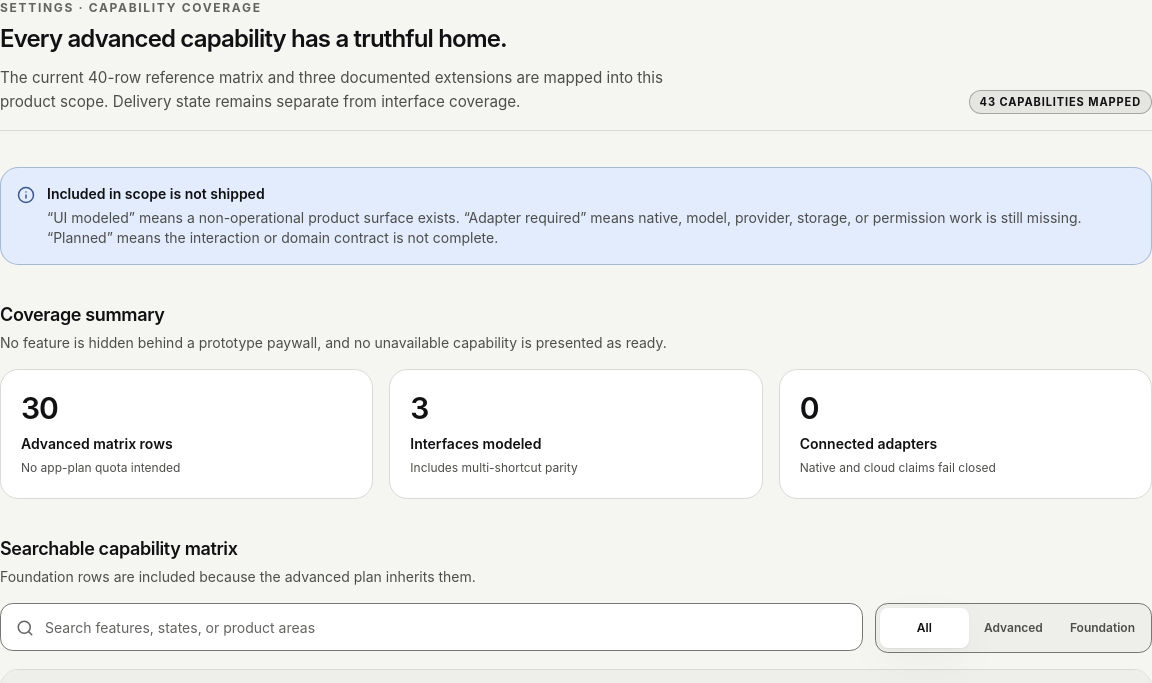
Test: capability coverage › searches titles, details, and product areas with an honest empty state
In the search field named "Search capabilities": (431, 627) top-left (0, 603), bottom-right (863, 651), type "Obsidian"
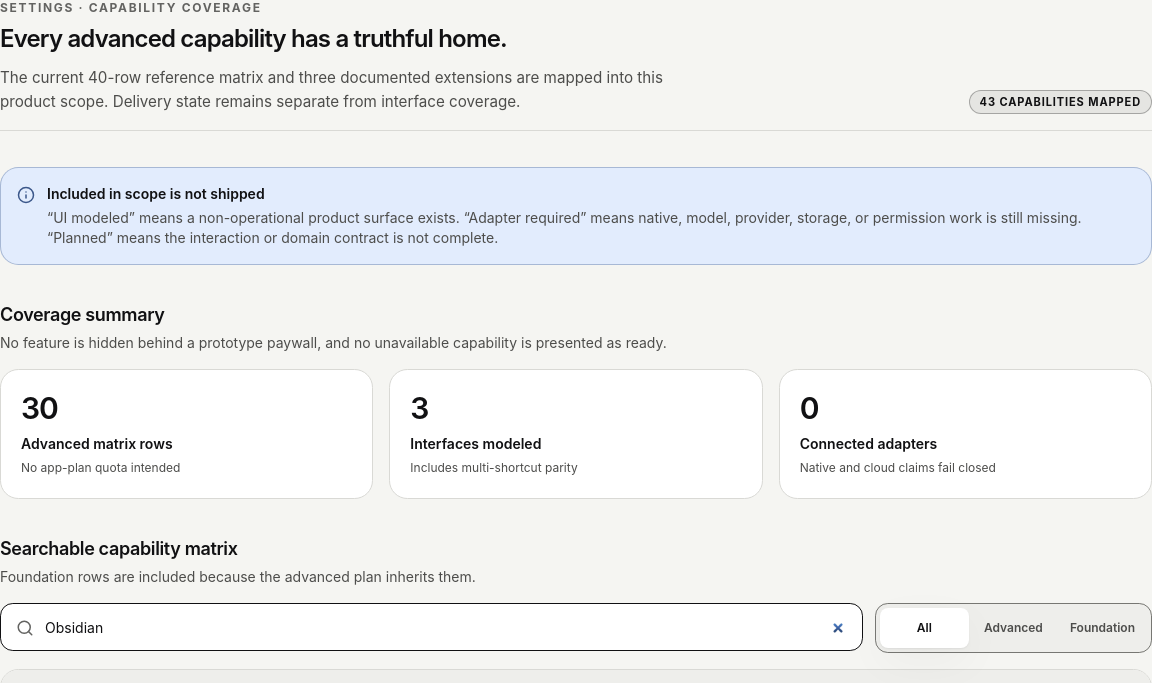
Replace the text in the search field named "Search capabilities" with "not a real capability": (431, 627) top-left (0, 603), bottom-right (863, 651)
(page scrolled)
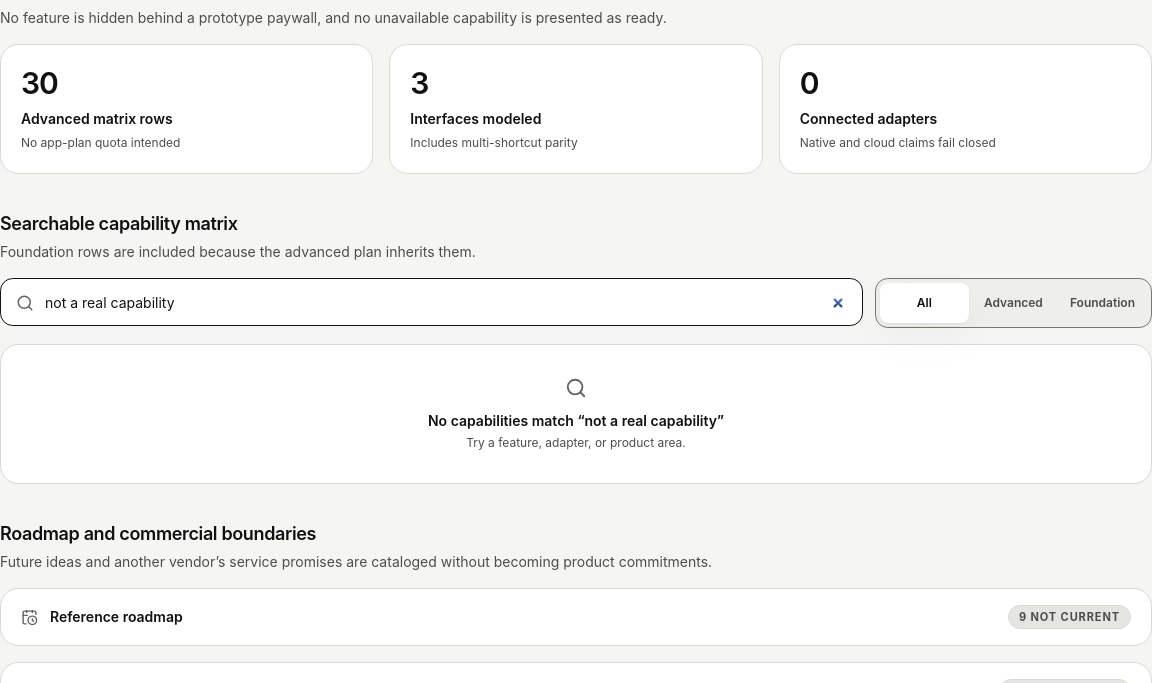
expect the heading "No capabilities match “not a real capability”" is shown: met, box top-left (428, 412), bottom-right (724, 429)
